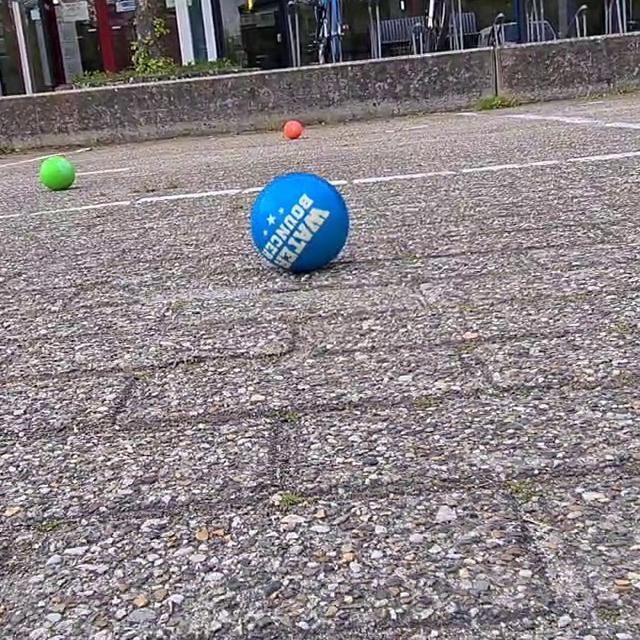ball: (36, 154, 76, 193), (279, 118, 305, 145)
